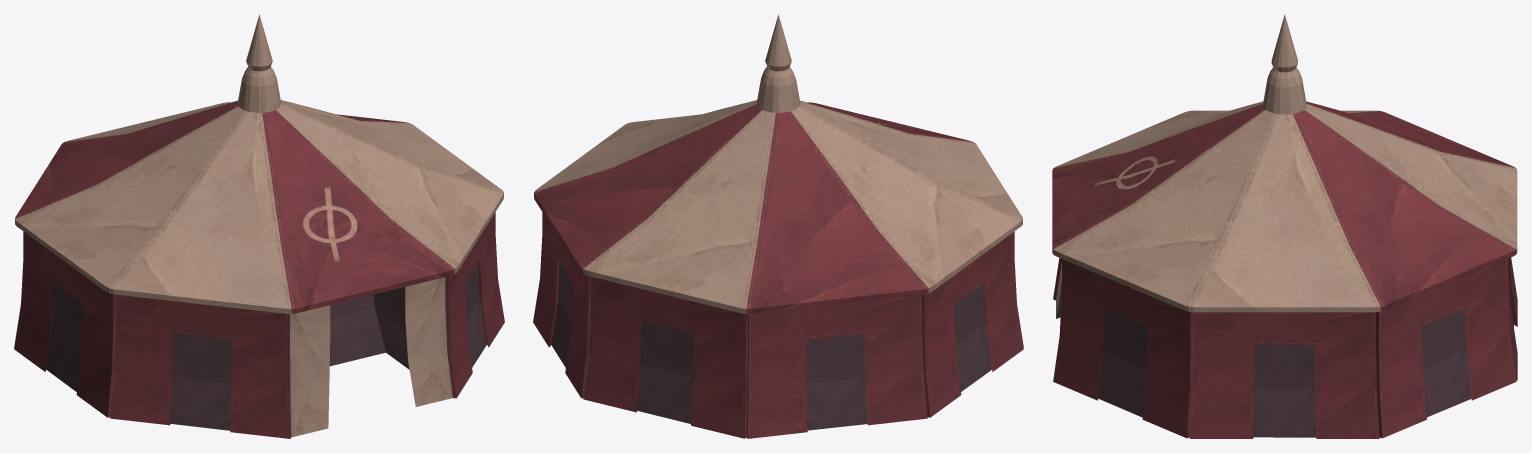
File: textTent.FBX
3 views of the same model, side by side, from view 1: azimuth 30°, elevation 25°; view 2: azimuth 150°, elevation 25°; view 3: azimuth 270°, elevation 25° (orthographic).
Visible parts, largest first — view 1: Cone003; view 2: Cone003; view 3: Cone003.
Part boxes in pixels (x1,y1,x2,y2): Cone003: [14, 14, 504, 438]; Cone003: [533, 14, 1023, 438]; Cone003: [1052, 14, 1517, 438].
Bounding box in the file's own units: 19.3 × 14.95 × 19.29.
Materials: 1 (1 with a texture image).
